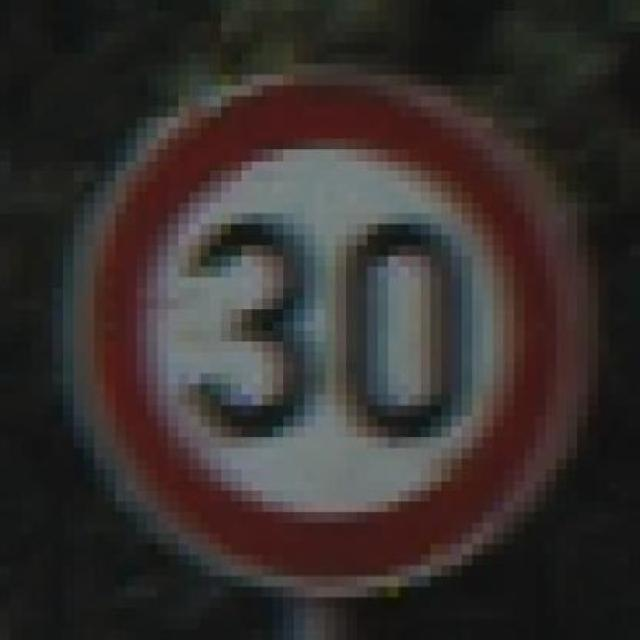Speed Limit 30 KMPh: (52, 53, 610, 598)
